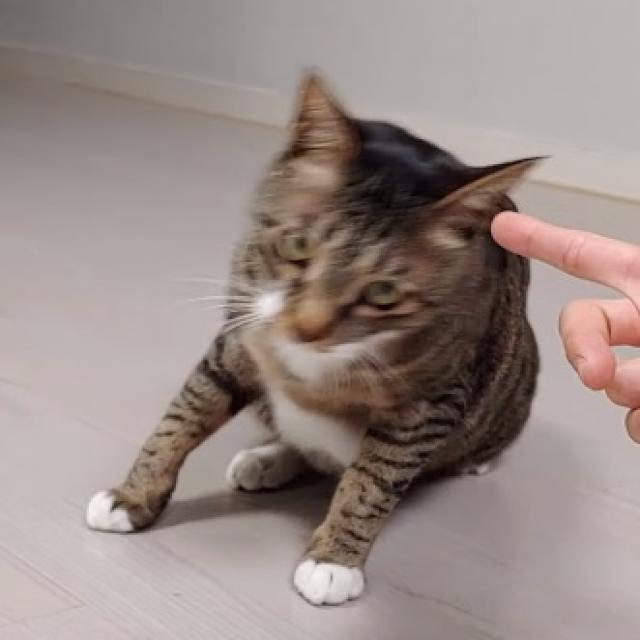cat: (84, 68, 542, 611)
